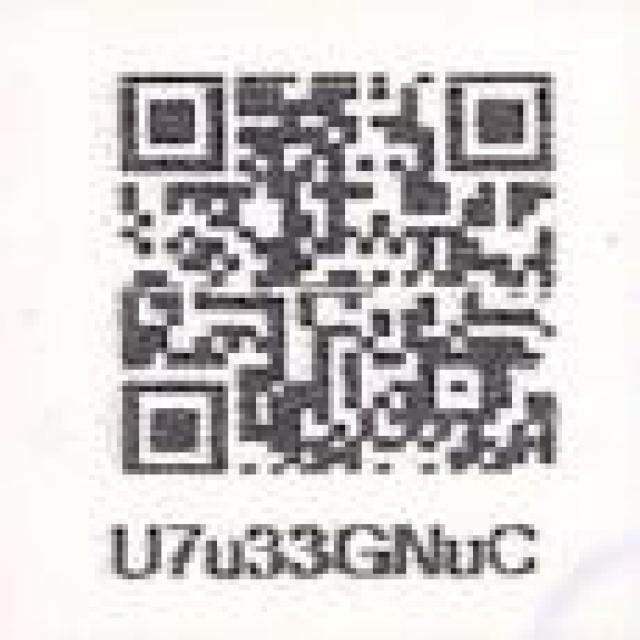qr-code: (107, 59, 569, 491)
